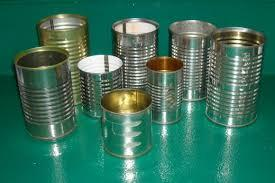Tin: (4, 5, 275, 168)
